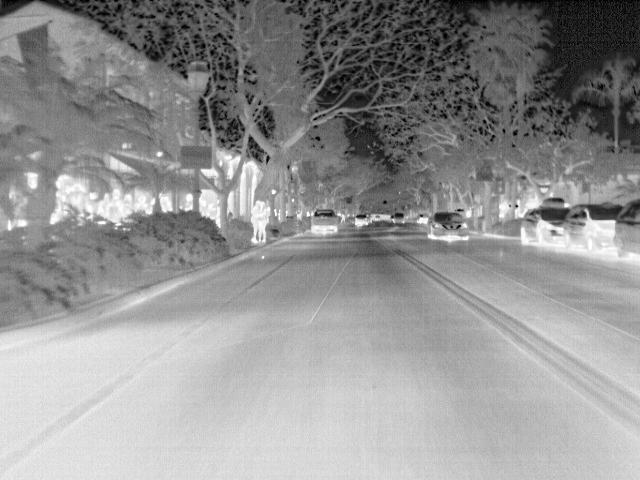car: (564, 202, 625, 250), (520, 207, 572, 248), (612, 198, 640, 258), (427, 211, 472, 242), (308, 207, 340, 235), (352, 213, 369, 228), (389, 212, 405, 227)
person: (248, 198, 264, 244), (258, 199, 273, 243), (108, 189, 126, 223), (82, 190, 99, 215), (96, 192, 113, 215), (121, 191, 136, 214), (182, 192, 196, 213)
